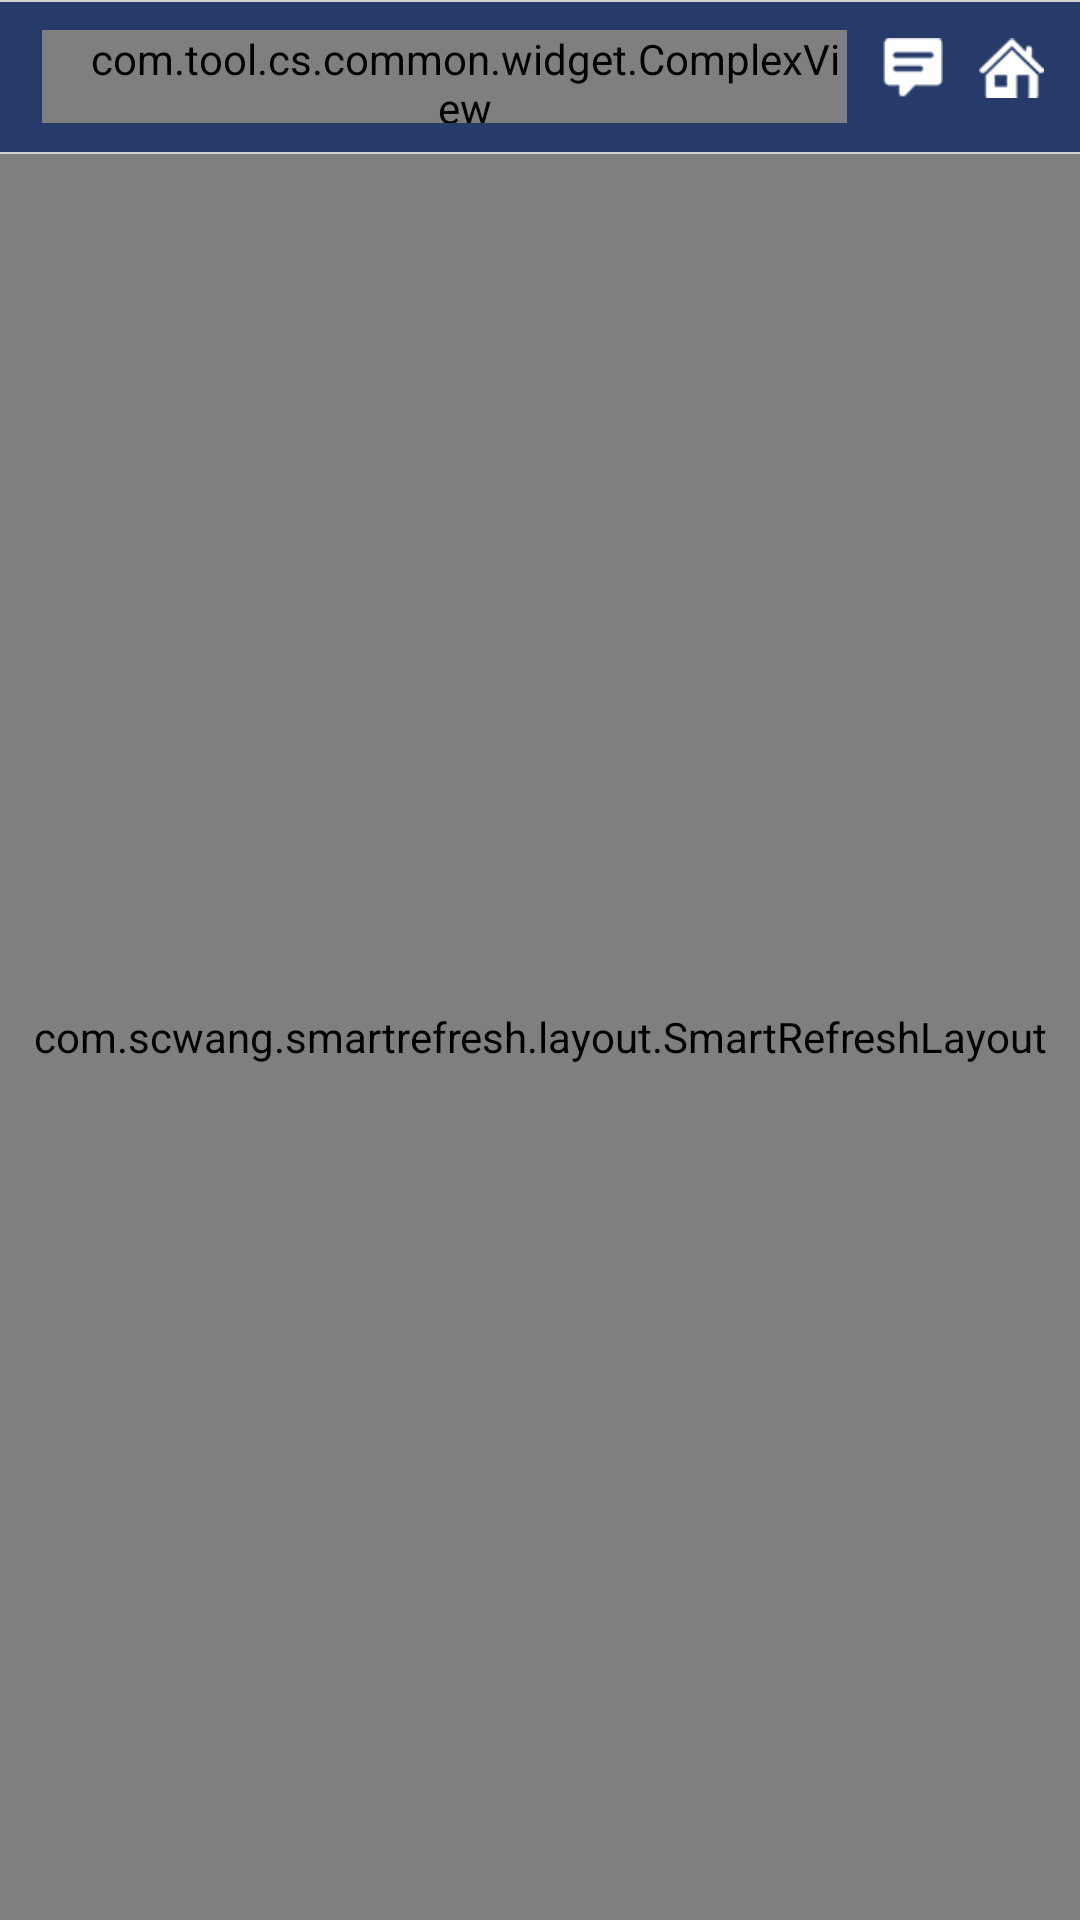

Screen size 1080×1920. Icon name, then its center in pixels as (x=x, y=y):
home back: (x=1011, y=68)
home message: (x=913, y=67)
